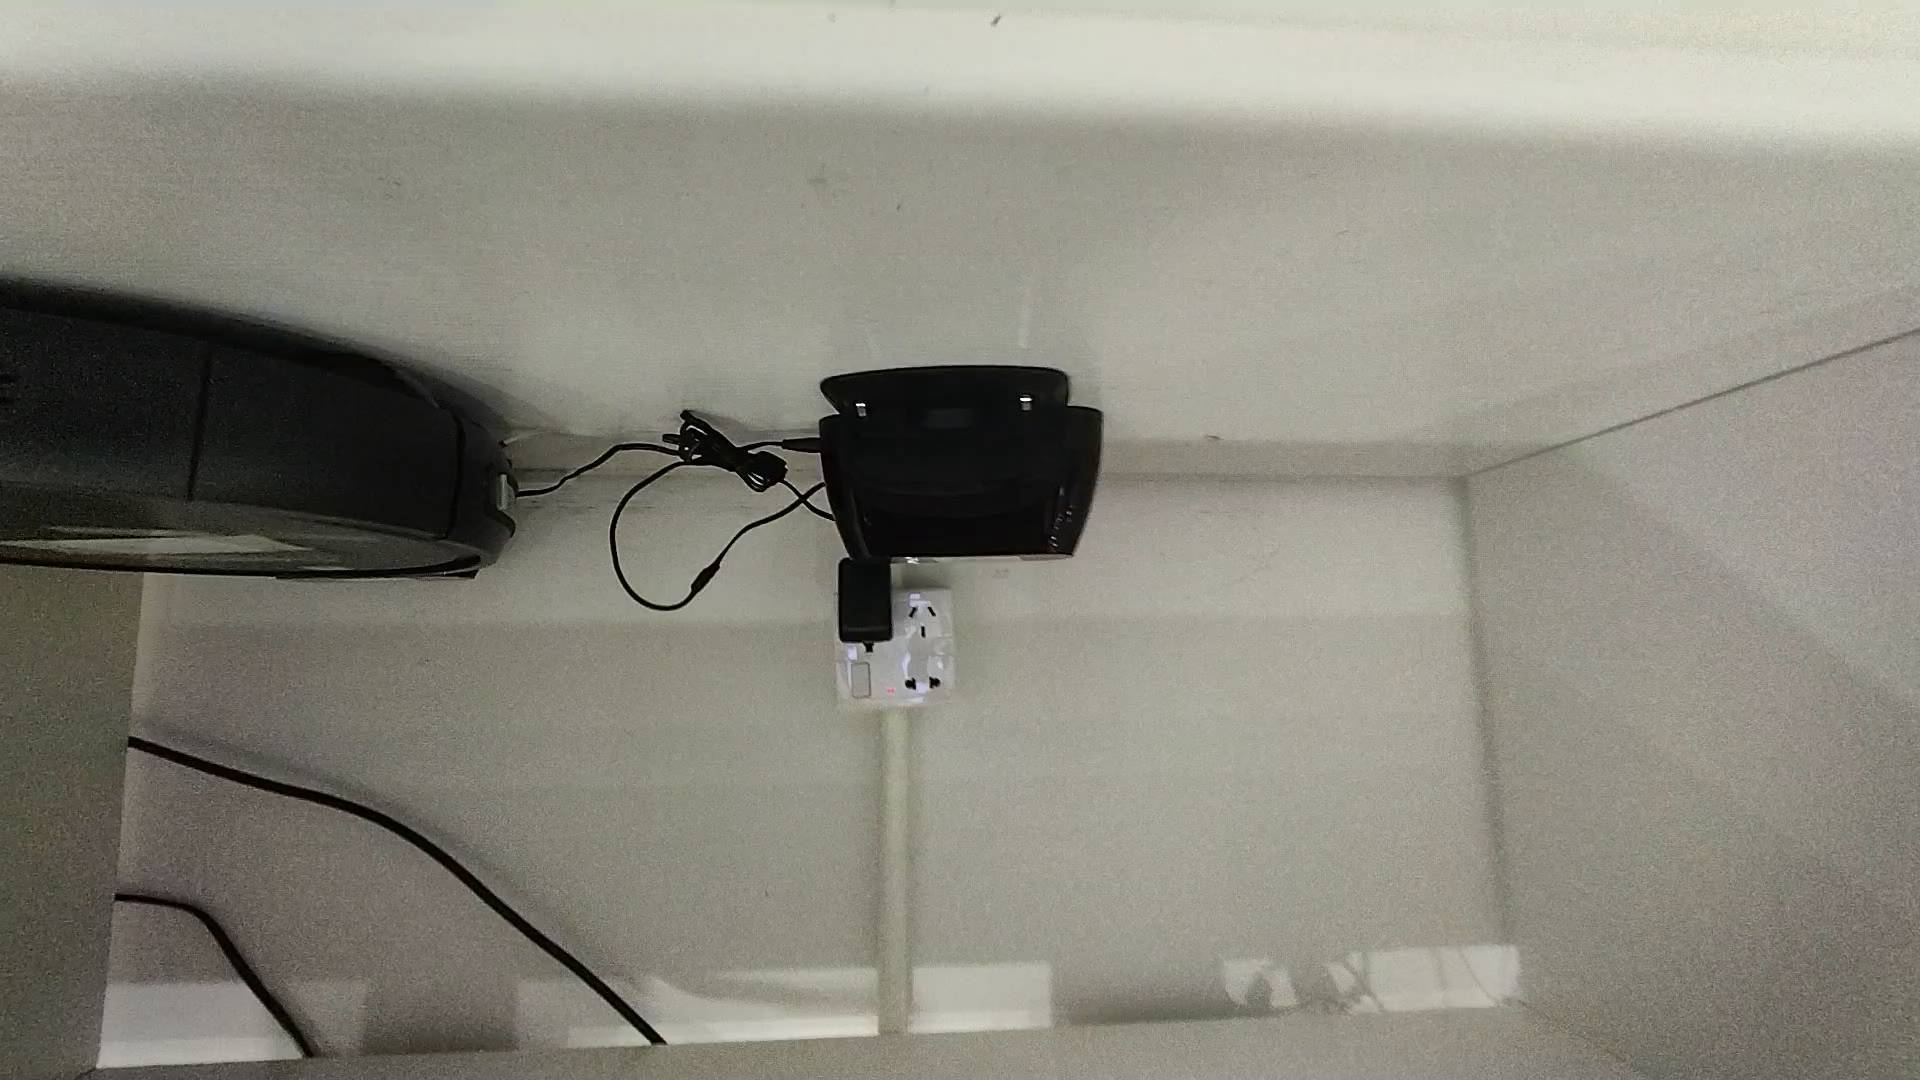recharge seat: (818, 364, 1102, 556)
